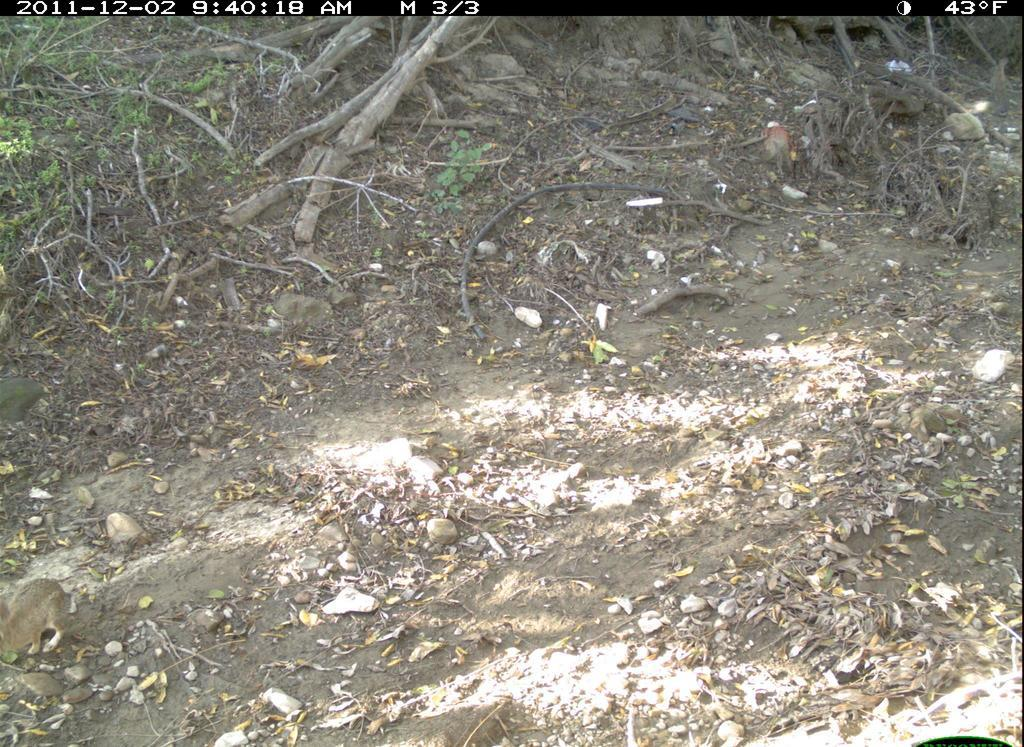rabbit: (2, 568, 89, 679)
